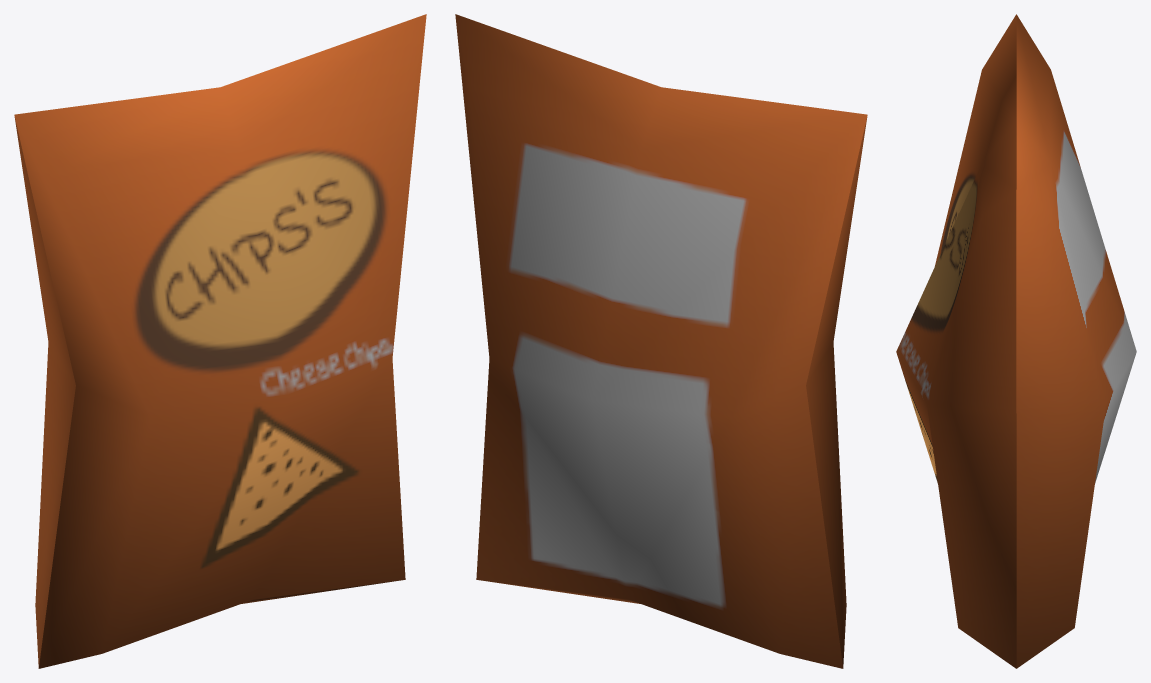
The model's file is Chips_02.fbx.
3 renders of one model, left to right at view 1: azimuth 30°, elevation 25°; view 2: azimuth 150°, elevation 25°; view 3: azimuth 270°, elevation 25°, orthographic. The views are drawn at different scales.
Visible parts, largest first — view 1: Chips_02; view 2: Chips_02; view 3: Chips_02.
Part boxes in pixels (x1,y1,x2,y2): Chips_02: [14, 14, 426, 668]; Chips_02: [455, 14, 867, 668]; Chips_02: [896, 14, 1136, 668].
Bounding box in the file's own units: 18.7 × 24.28 × 10.81.
